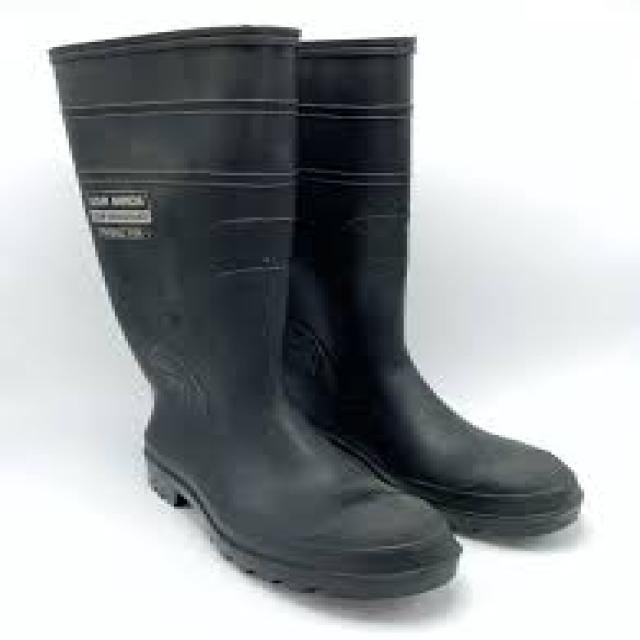shoes: (51, 26, 581, 597)
